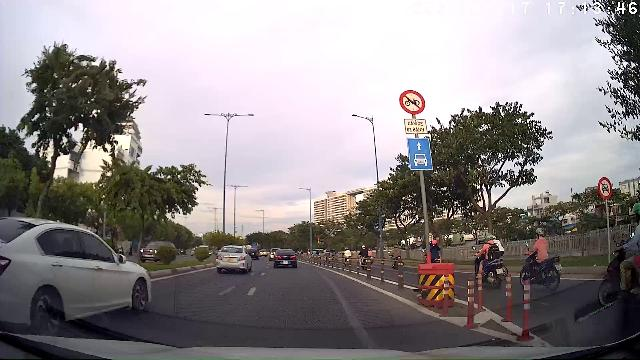103a-cam-oto: (598, 177, 612, 199)
